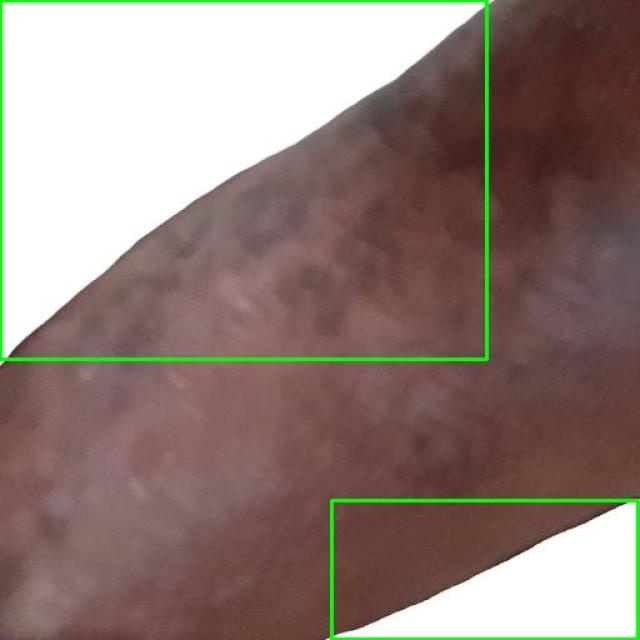Eczema: (0, 0, 486, 359), (332, 500, 639, 639)
